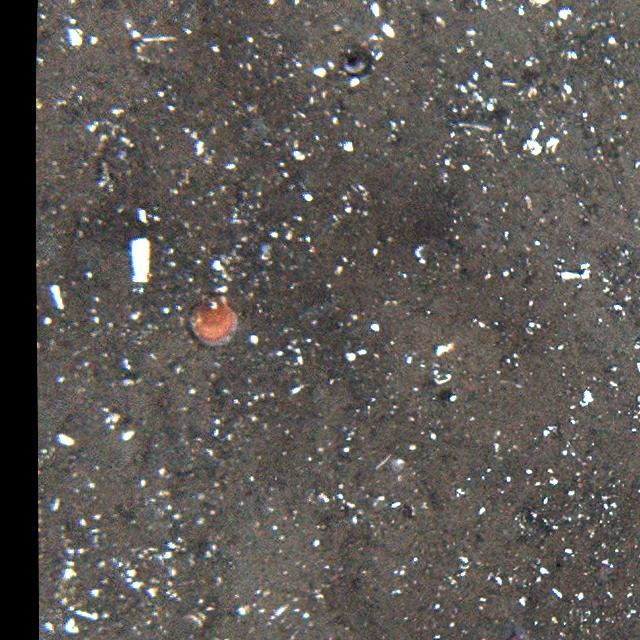scallop: (188, 292, 240, 346)
